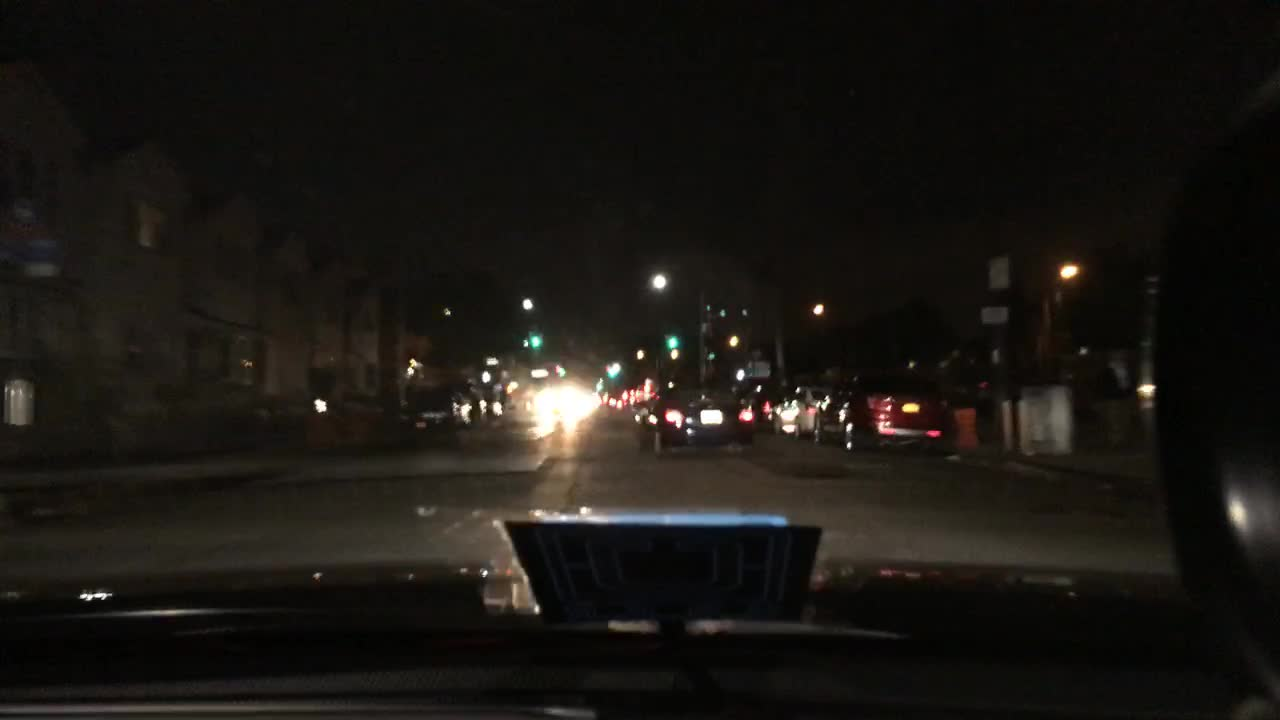car: (817, 378, 955, 457), (641, 378, 755, 457), (403, 387, 468, 434), (768, 386, 827, 435), (742, 382, 793, 422), (534, 384, 586, 418), (635, 381, 666, 424), (457, 383, 487, 423), (482, 387, 505, 420), (626, 386, 643, 411), (601, 387, 620, 407), (614, 389, 630, 410), (606, 370, 617, 378)
traffic light: (666, 336, 677, 349), (530, 336, 541, 347)
traffic sign: (22, 236, 62, 279), (986, 256, 1007, 287), (979, 311, 1008, 324)
